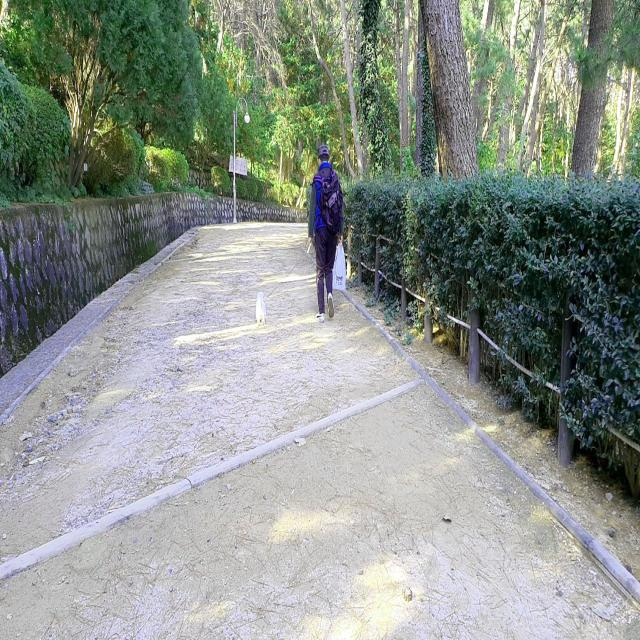Leashed_Dog: (256, 236, 325, 324)
